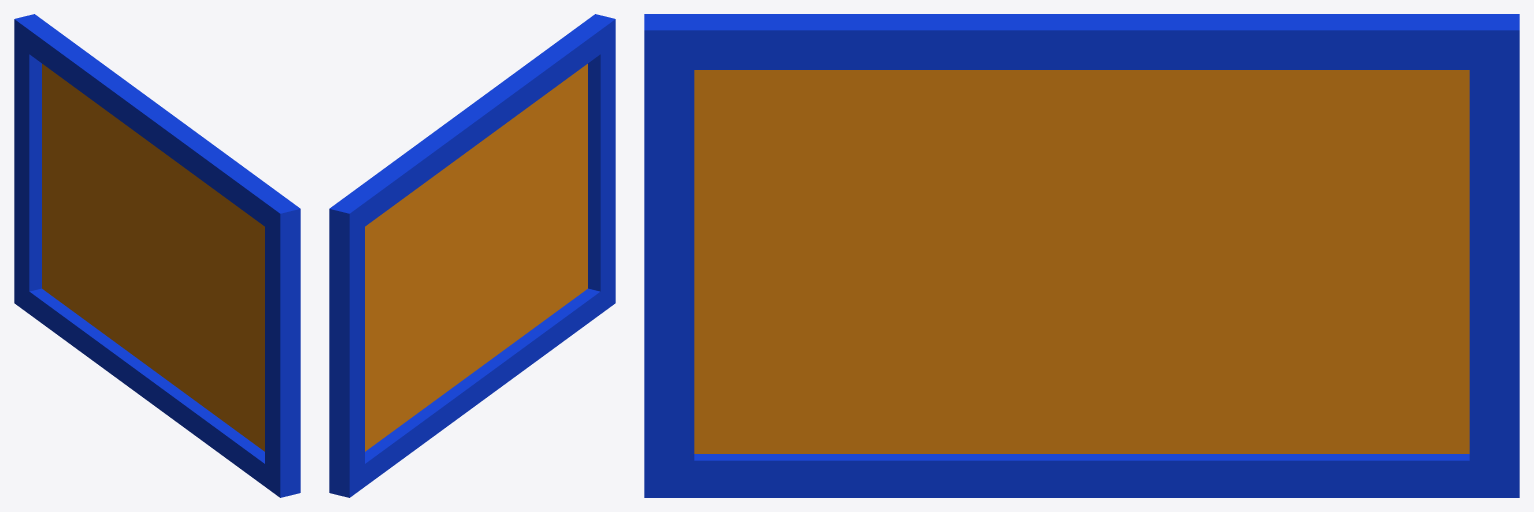
Rendered from picture.FBX.
3 renders of one model, left to right at view 1: azimuth 30°, elevation 25°; view 2: azimuth 150°, elevation 25°; view 3: azimuth 270°, elevation 25°, orthographic. The views are drawn at different scales.
Visible parts, largest first — view 1: Object240; view 2: Object240; view 3: Object240.
Part boxes in pixels (x1,y1,x2,y2): Object240: (14,14,300,497); Object240: (329,14,615,497); Object240: (644,14,1519,497).
Size of the model in its own units: 0.1203 by 1.6 by 2.71.
